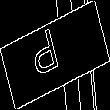P_S: (37, 25, 73, 85)
